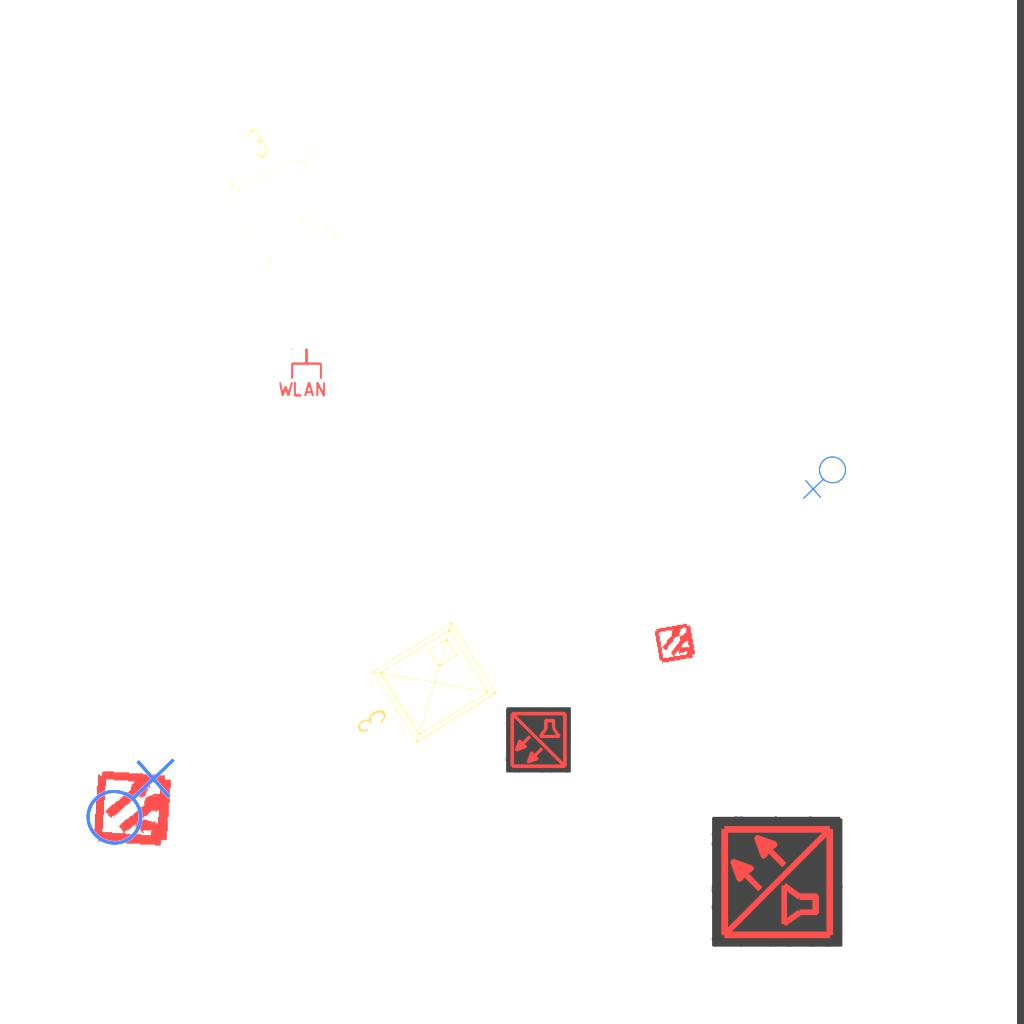Einbaudownlights_LED_Konferenzraeume: (326, 611, 510, 779), (199, 103, 355, 283)
Elektroanschluss_allgemein_230V_Geraeteanschlussdose_230V: (77, 753, 176, 847), (802, 455, 851, 502)
OKW_Multisensormelder_(Kombination_optischer_Rauch-Kahlenmonoxid_Waerme-Melder): (711, 815, 843, 947), (505, 707, 571, 773)
OT_Multisensormelder_(Kombination_RMO_WMD): (74, 748, 195, 869), (643, 610, 709, 676)
WLAN: (276, 346, 328, 398)
